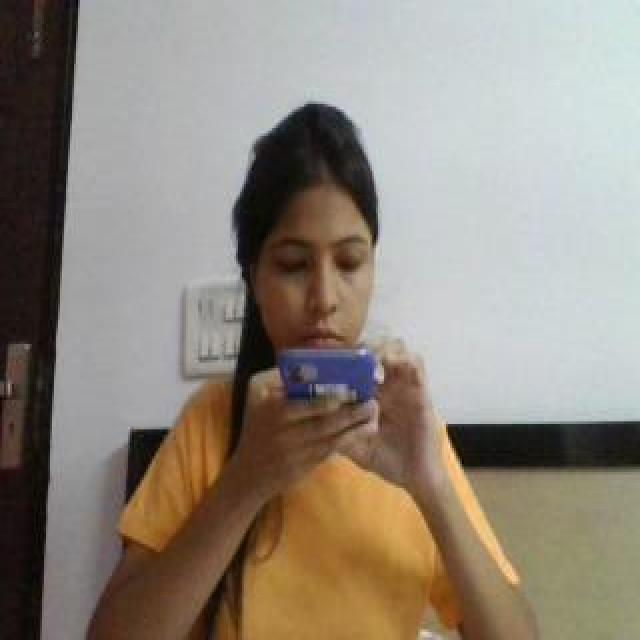phone: (278, 344, 380, 400)
